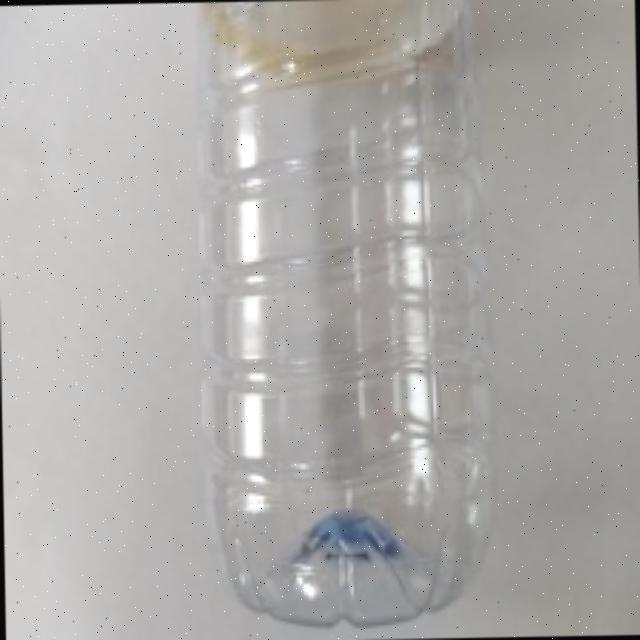bottle: (194, 5, 508, 640)
